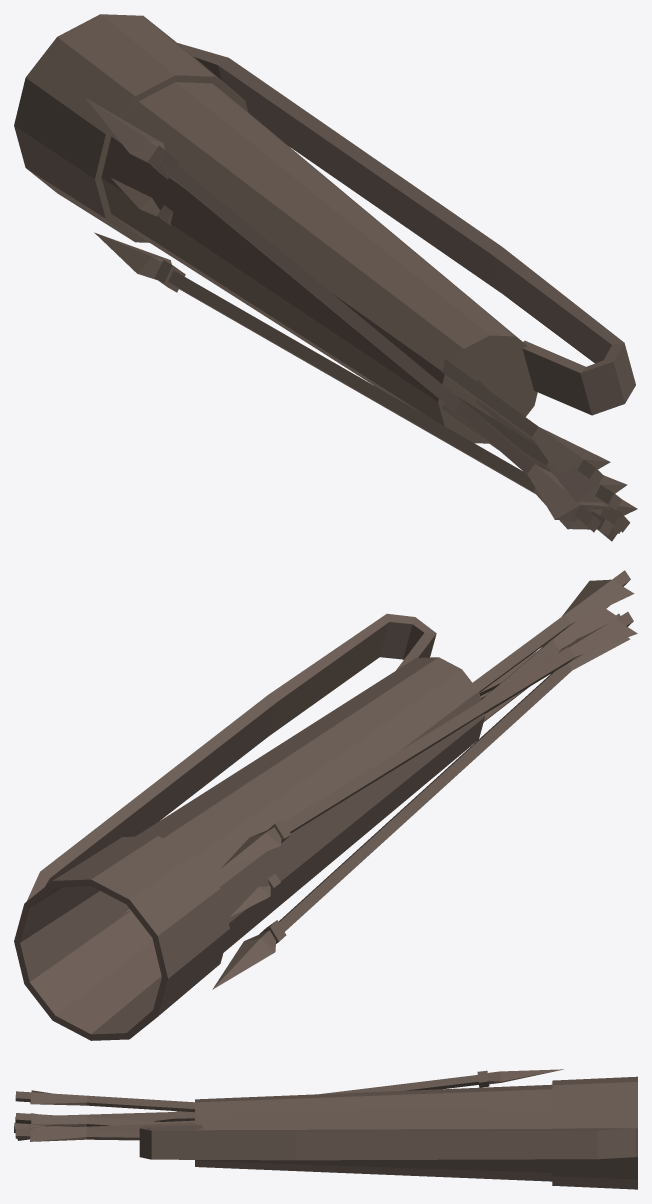
Rendered from Quiver.fbx.glb.
3 renders of one model, top to bottom at view 1: azimuth 30°, elevation 25°; view 2: azimuth 150°, elevation 25°; view 3: azimuth 270°, elevation 25°, orthographic. The views are drawn at different scales.
Parts seen in each view (by area): view 1: Quiver.2, Arrows.1; view 2: Quiver.2, Arrows.1; view 3: Quiver.2, Arrows.1.
Boxes of the visible parts, bbox=[...] form: Quiver.2: bbox=[14, 14, 635, 443]; Arrows.1: bbox=[85, 98, 637, 541]; Quiver.2: bbox=[14, 613, 484, 1040]; Arrows.1: bbox=[123, 570, 637, 989]; Quiver.2: bbox=[139, 1076, 637, 1189]; Arrows.1: bbox=[14, 1069, 563, 1141].
Size of the model in its own units: 8.98 by 7.57 by 41.68.
